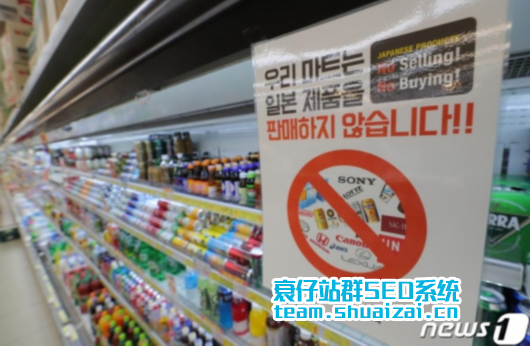bill: (252, 1, 510, 346)
